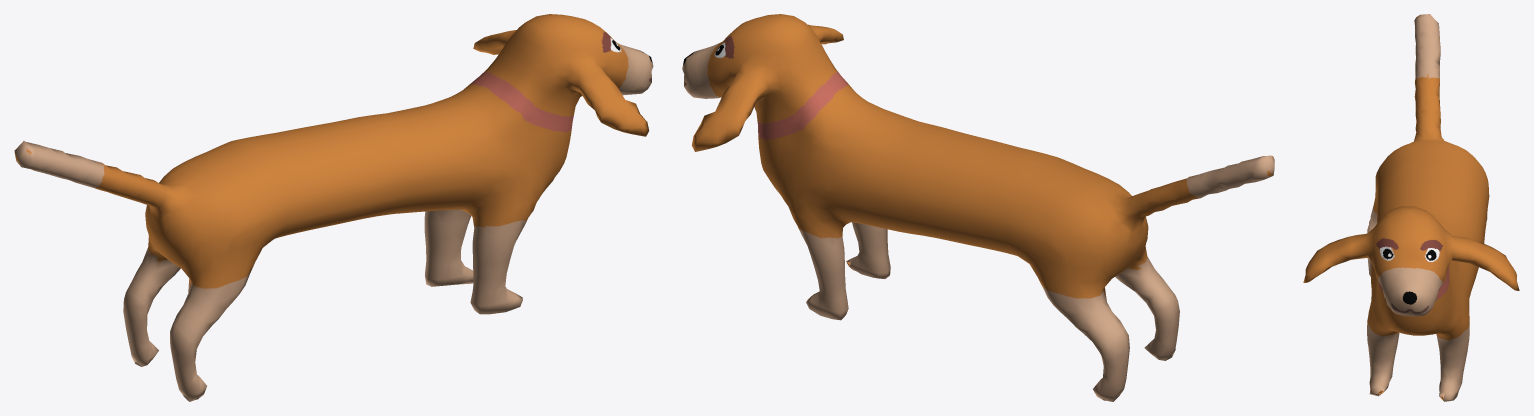
File: dog_aug_0.obj
3 views of the same model, side by side, from view 1: azimuth 30°, elevation 25°; view 2: azimuth 150°, elevation 25°; view 3: azimuth 270°, elevation 25° (orthographic). The views are drawn at different scales.
Size of the model in its own units: 98.23 by 41.97 by 36.9.
1 material, 1 textured.
